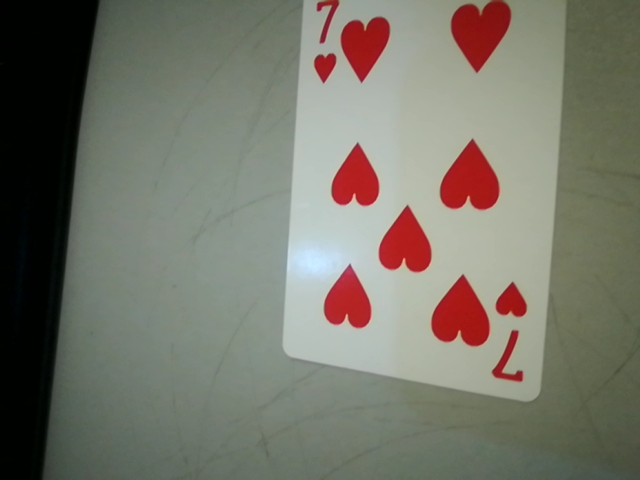hx 7: (488, 278, 540, 391)
